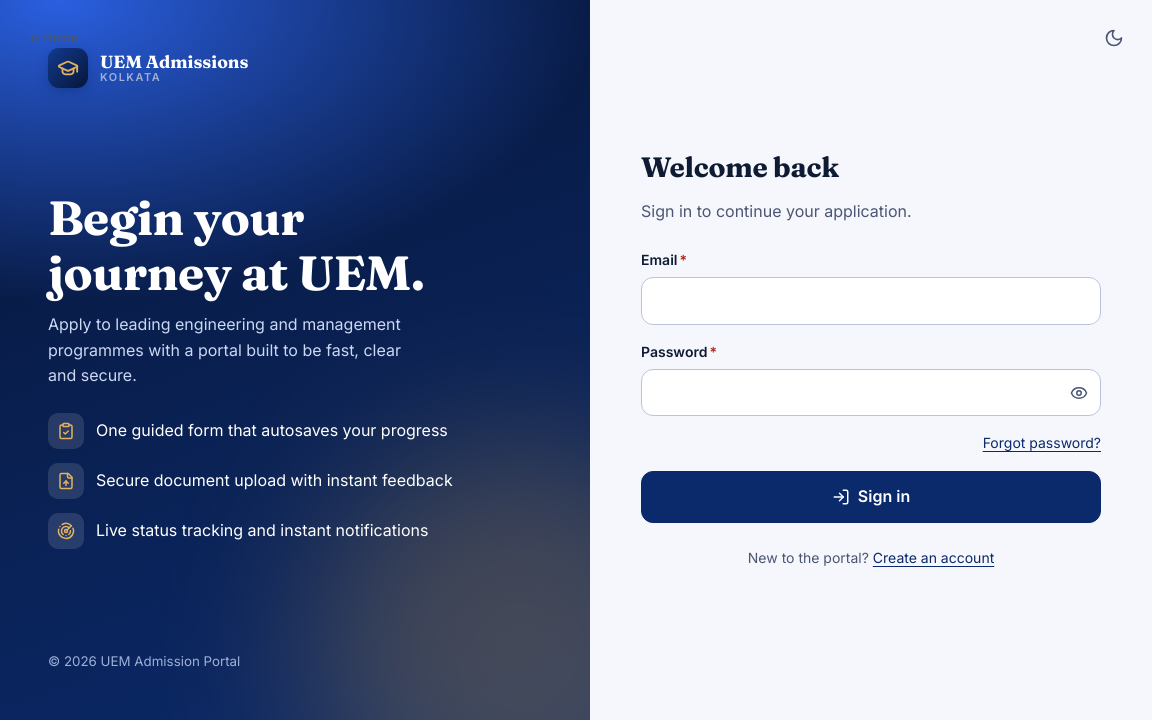
Test case: LoginPage › asks for both fields and sends nothing when they are empty
What coordinates should you click on to do the following:
click the button "Sign in"
I would click on:
 (871, 497)
Its box is [641,471,1101,523].
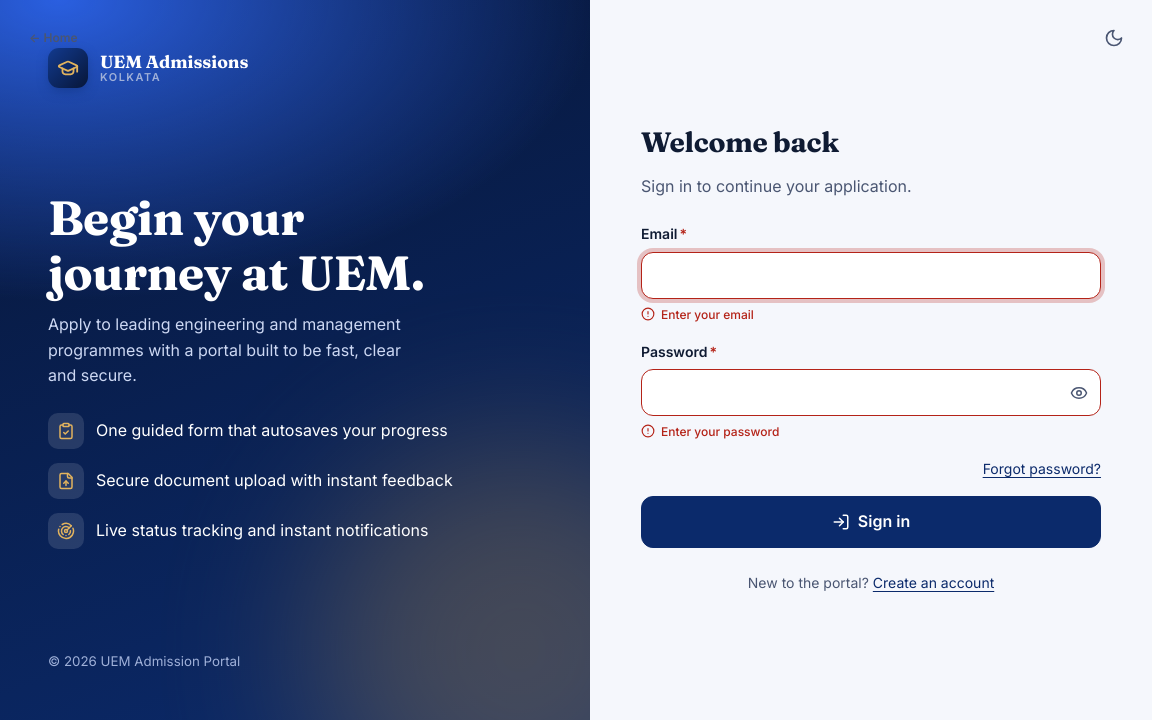
Expected: the text "Enter your email" is shown, [641,307,754,322]
Expected: the text "Enter your password" is shown, [641,424,779,440]
